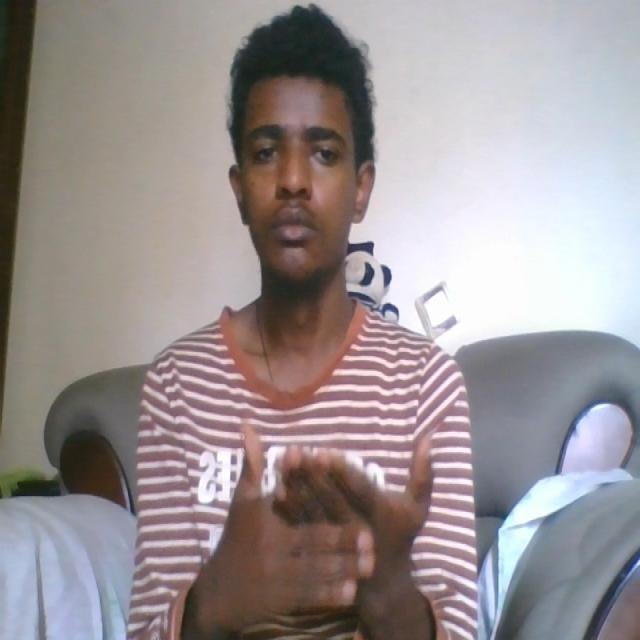sga: (218, 430, 438, 616)
